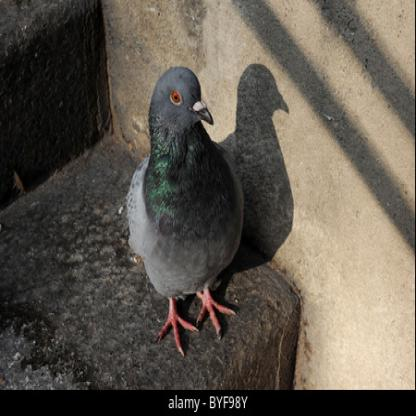Flying Rat: (110, 57, 269, 349)
